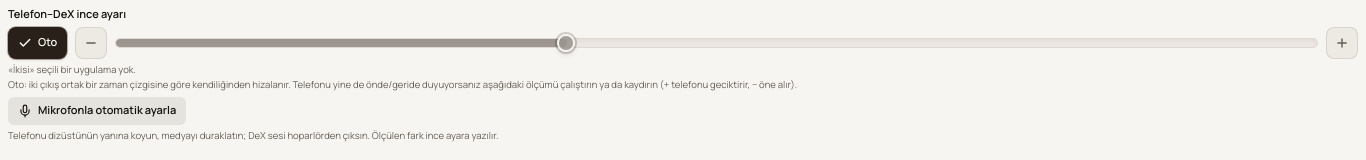
SyncFineTune: automatic calibration › writes nothing when the measurement fails and says why
Click the button with test id "audio-sync-auto" at (97, 111), box [8,97,186,125]
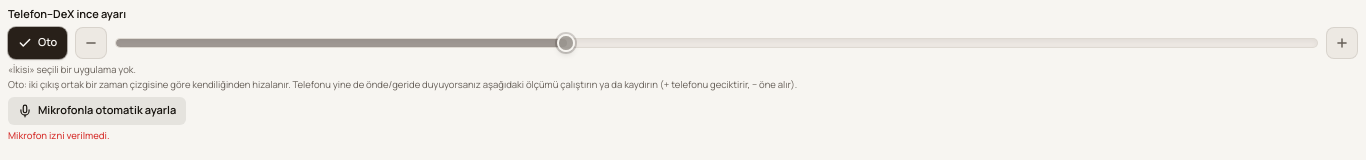
Expected: the text with test id "audio-sync-auto-status" shows "Mikrofon izni verilmedi", [8,129,110,142]
